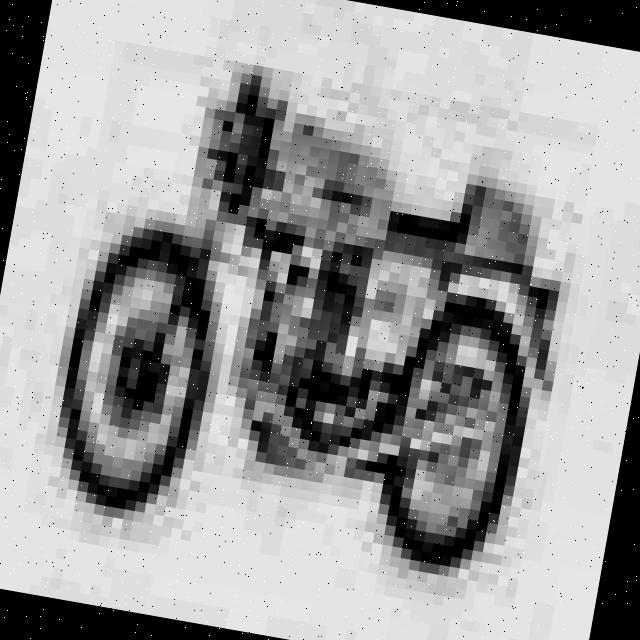mopeds: (22, 55, 596, 613)
